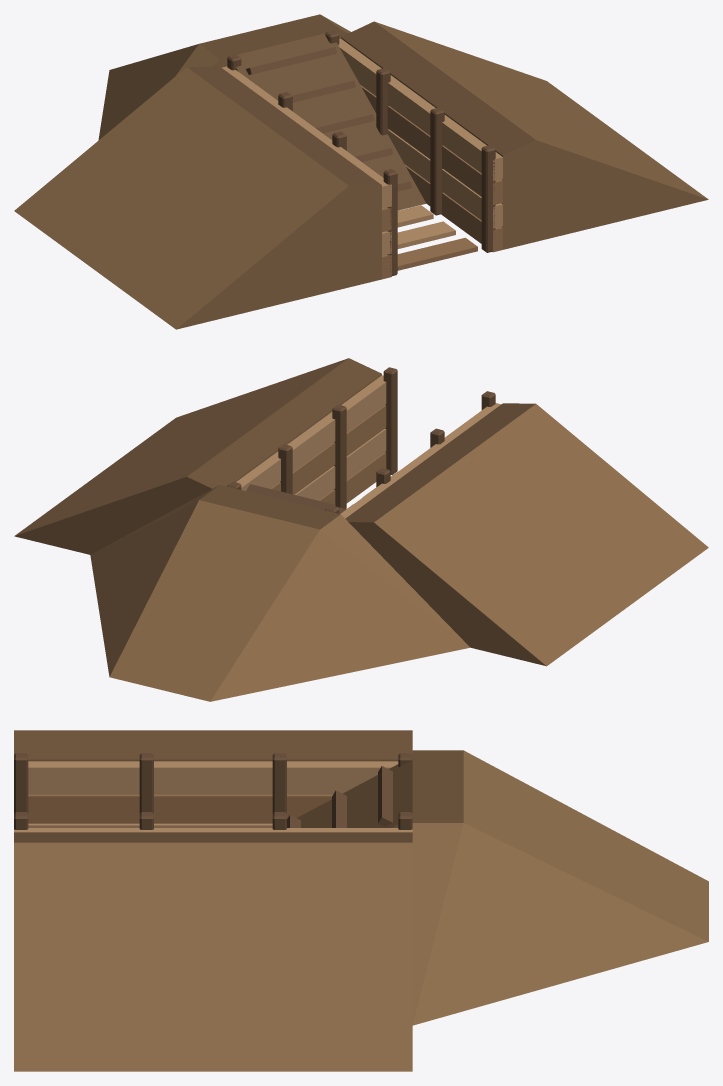
File: trench_end.glb
The picture shows the model from 3 angles, top to bottom: view 1: azimuth 30°, elevation 25°; view 2: azimuth 150°, elevation 25°; view 3: azimuth 270°, elevation 25°; orthographic projection. The views are drawn at different scales.
Visible parts, largest first — view 1: LOD0; view 2: LOD0; view 3: LOD0.
Part boxes in pixels (x1,y1,x2,y2): LOD0: (14,14,708,329); LOD0: (14,358,708,701); LOD0: (14,730,708,1071).
Size of what is drawn, in the model's own units: 7.4 by 1.37 by 6.8.
1 material, 1 textured.
